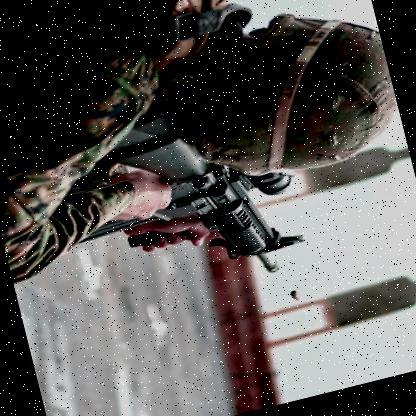rifle: (46, 92, 316, 321)
